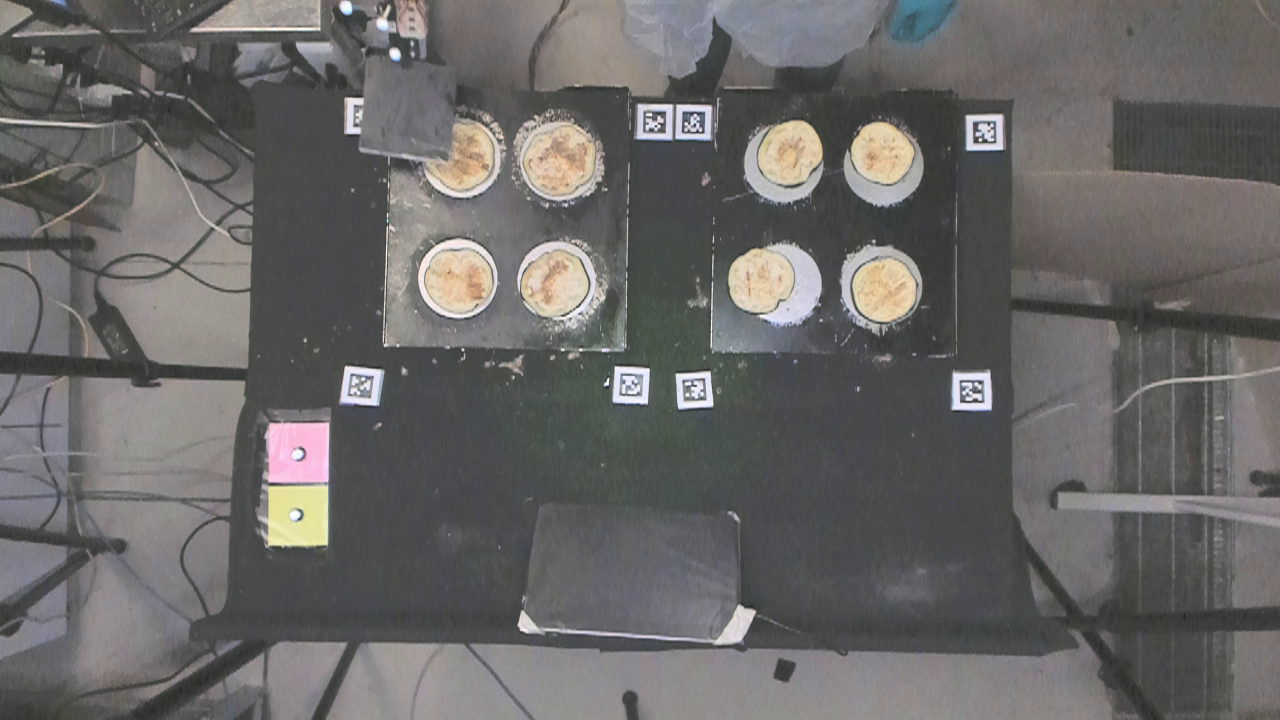eggplant: (403, 101, 503, 194), (516, 120, 601, 205), (516, 243, 595, 328), (848, 254, 933, 330), (424, 244, 501, 324), (726, 248, 797, 320), (849, 115, 918, 186), (753, 117, 824, 185)
marker: (264, 422, 333, 485)
